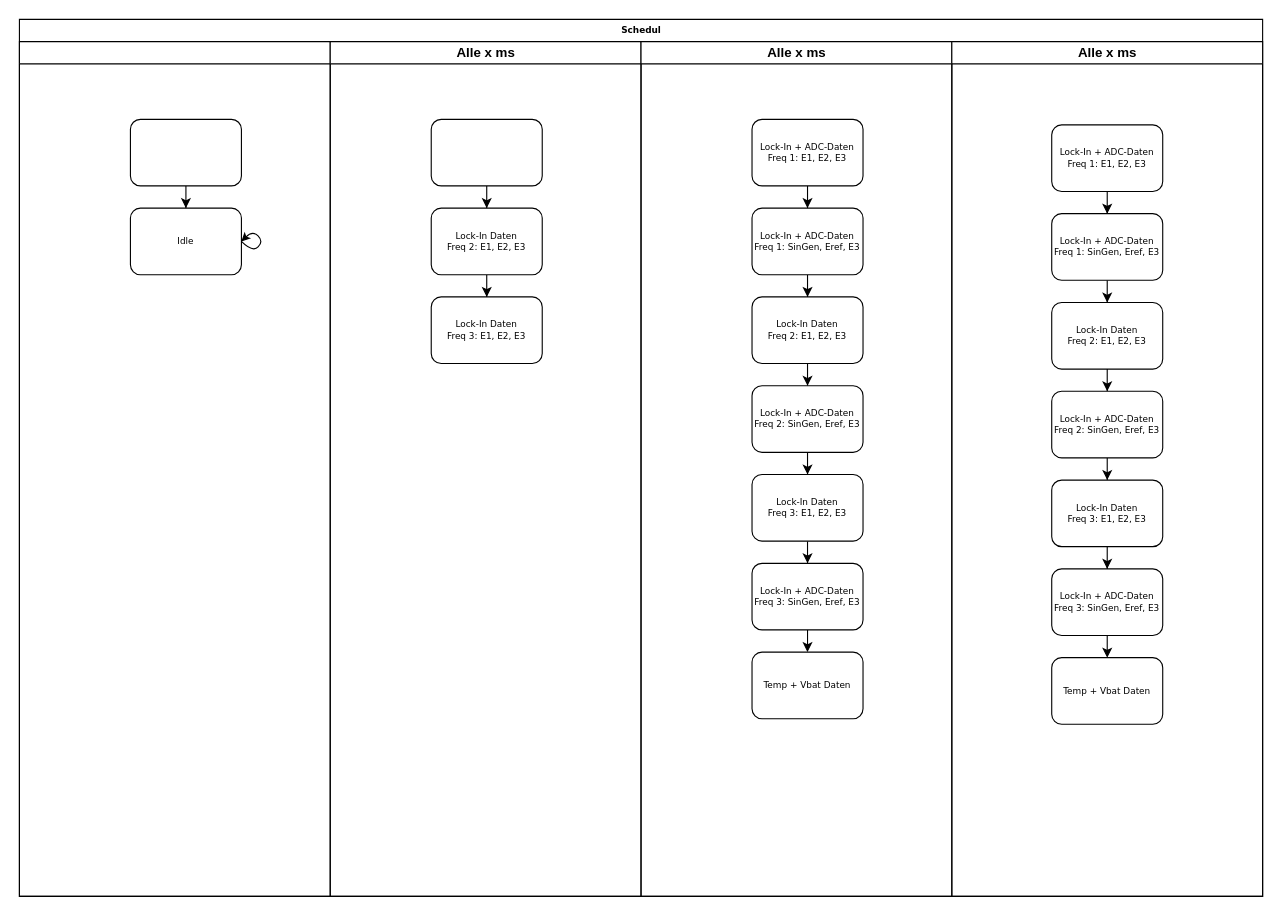
Image size: 1282x916. Some labels were removed from this diagram. The box of each missing label's shape, as (x1, y1, x2, y2) in pixels:
Init: (129, 118, 241, 186)
Lock-In Daten Freq 1: E1, E2, E3: (430, 118, 542, 186)
Main: (18, 41, 330, 896)
